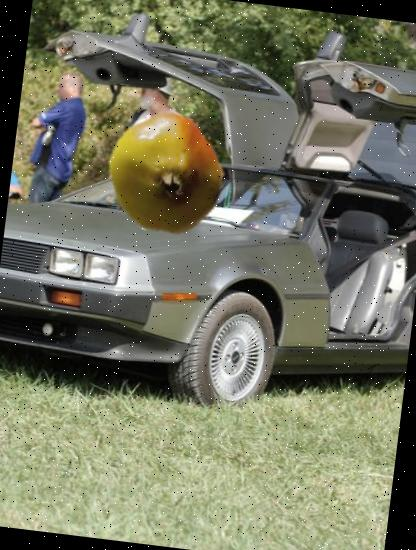Apple: (98, 106, 233, 241)
